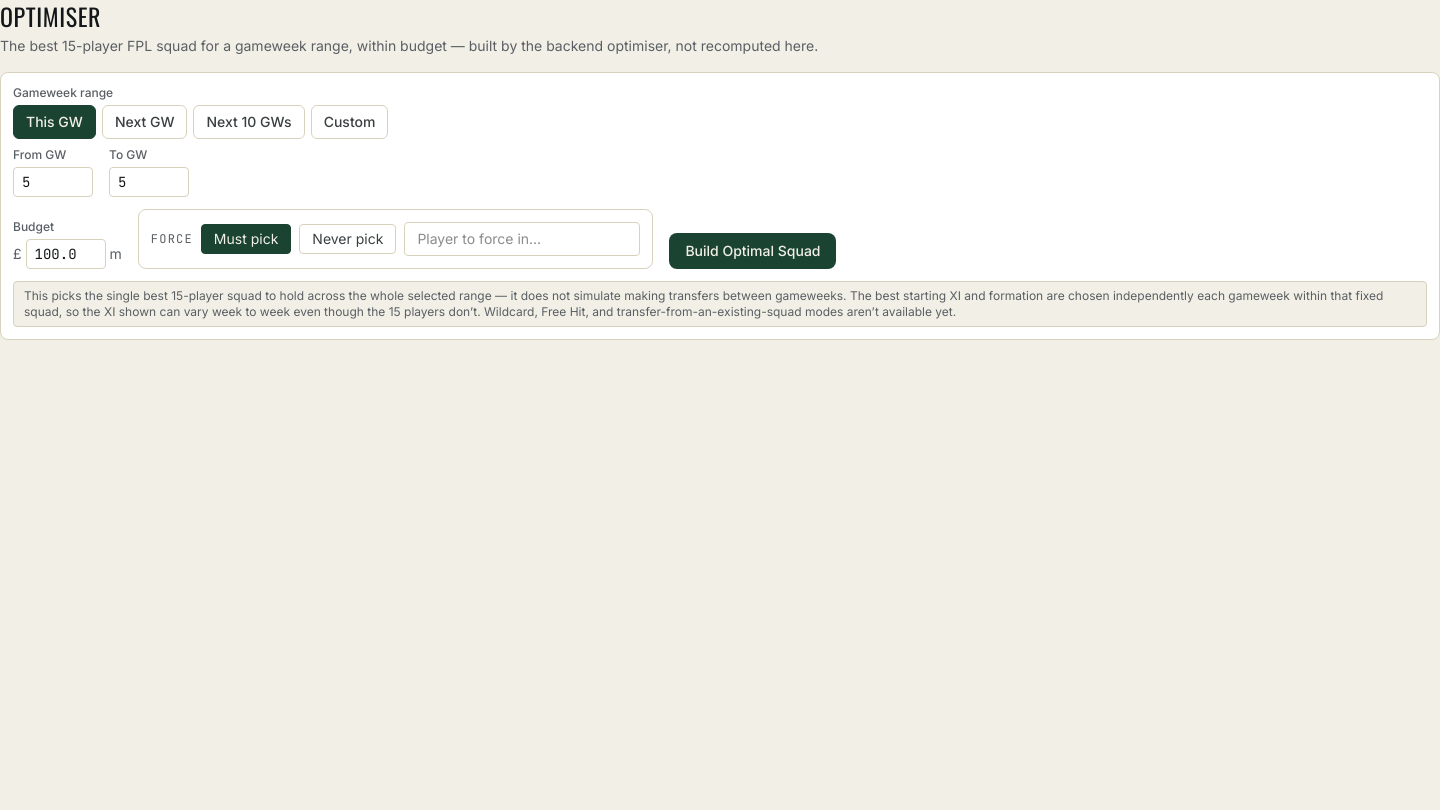
Test: optimiser forced picks › reports plainly when the solver IGNORES a forced pick
In the search field with placeholder "Player to force in…": (522, 239) [404,222,640,256], type "haaland"
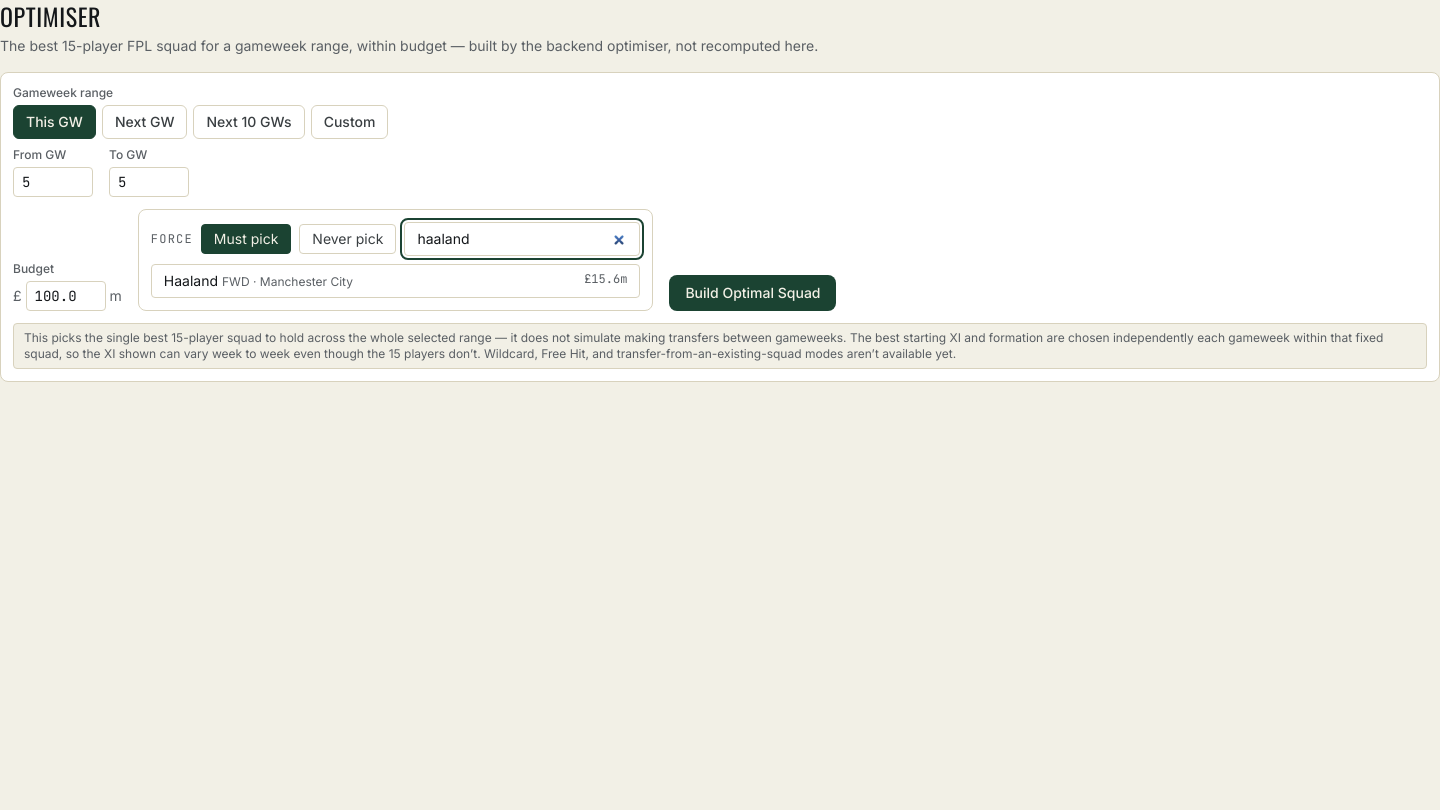
Check: the button "Haaland FWD · Manchester City £15.6m" is shown
Click the button "Haaland FWD · Manchester City £15.6m": (191, 280) [152,265,639,297]
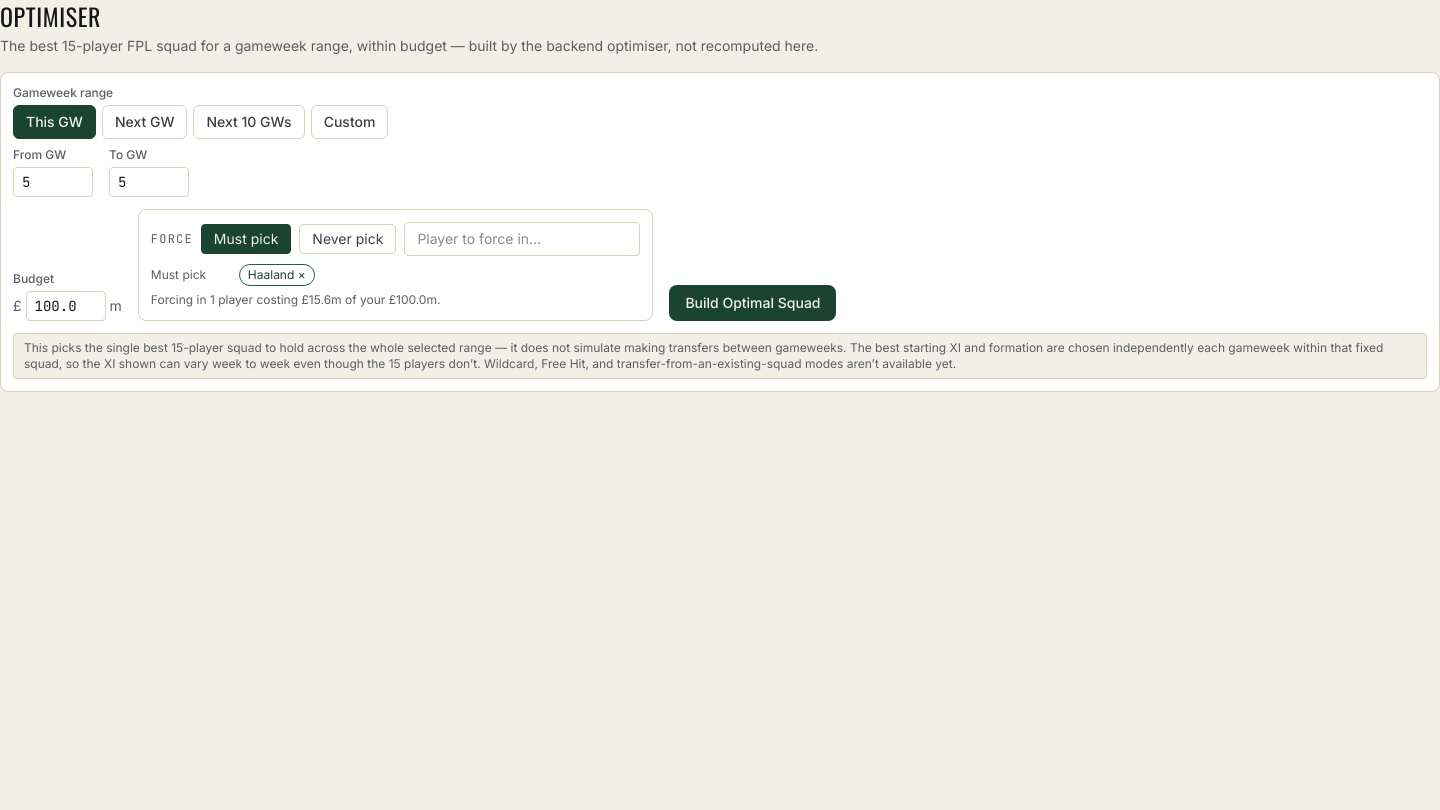
Click the button "Build Optimal Squad": (753, 303) [669,285,836,321]
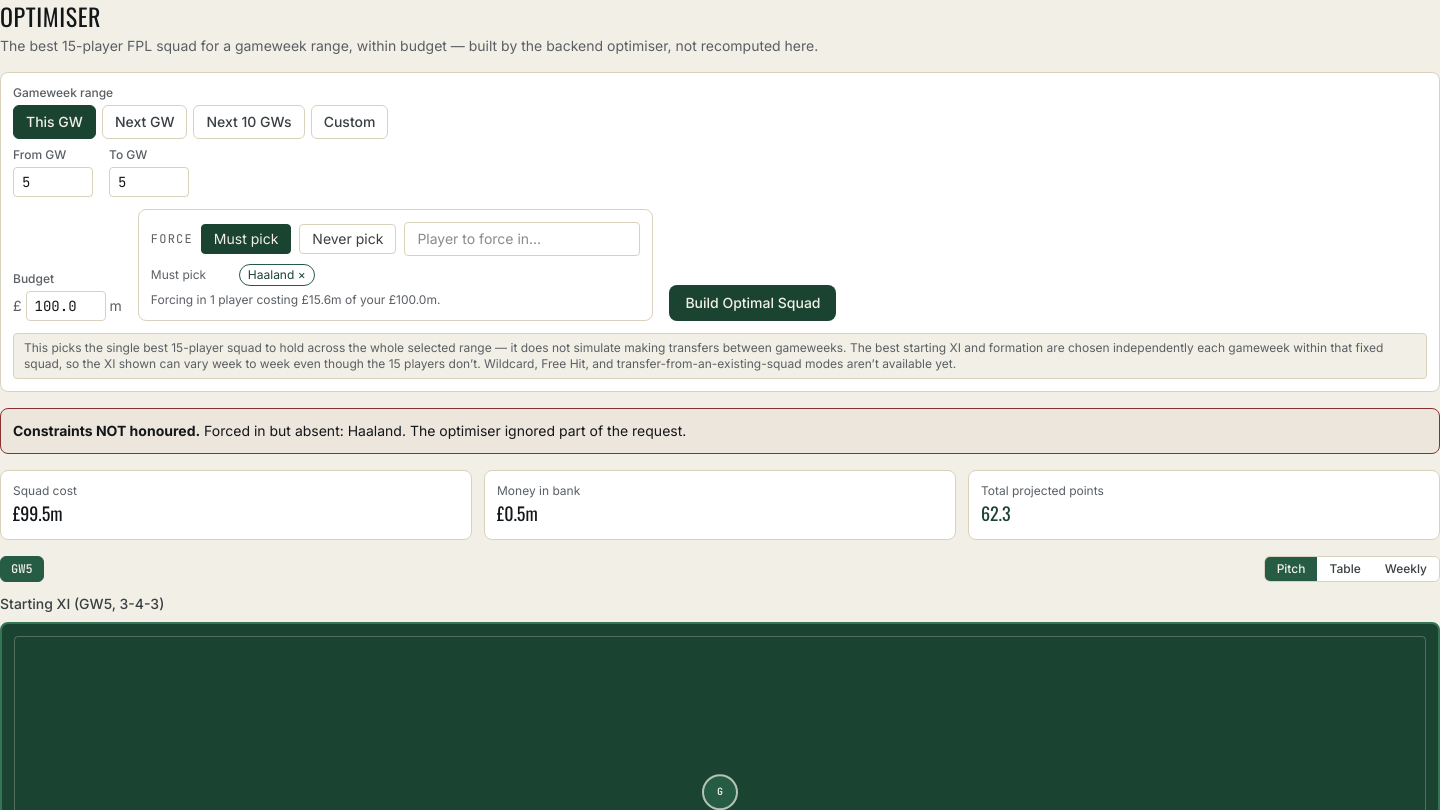
Check: the text "Constraints NOT honoured." is shown, box [13,422,200,439]
Check: the text "Forced in but absent: Haaland" is shown, box [0,408,1439,454]
